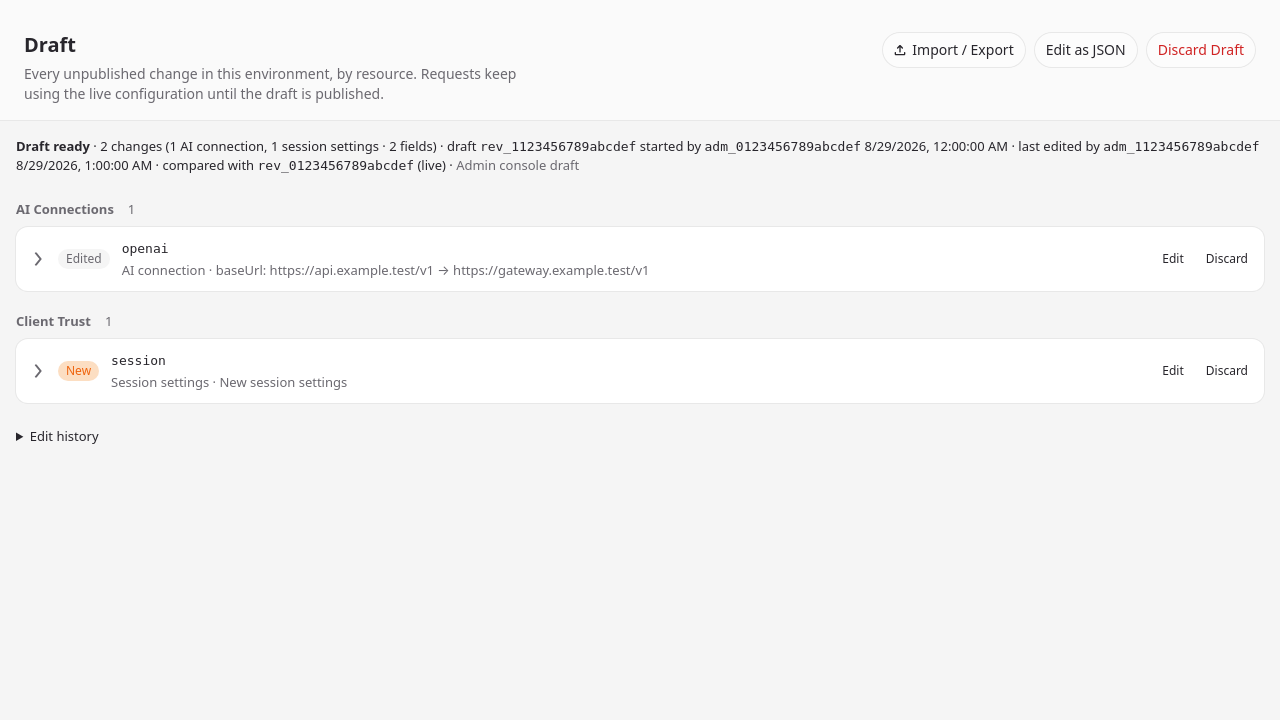
Test case: Changes with the draft lifecycle › shows who edited the draft and which paths, without values
This screenshot has width=1280, height=720.
Expected: the text "last edited by" is shown, [1008,137,1103,155]
Step 1. Click the heading "Edit history" → click(64, 436), box [30,427,99,445]
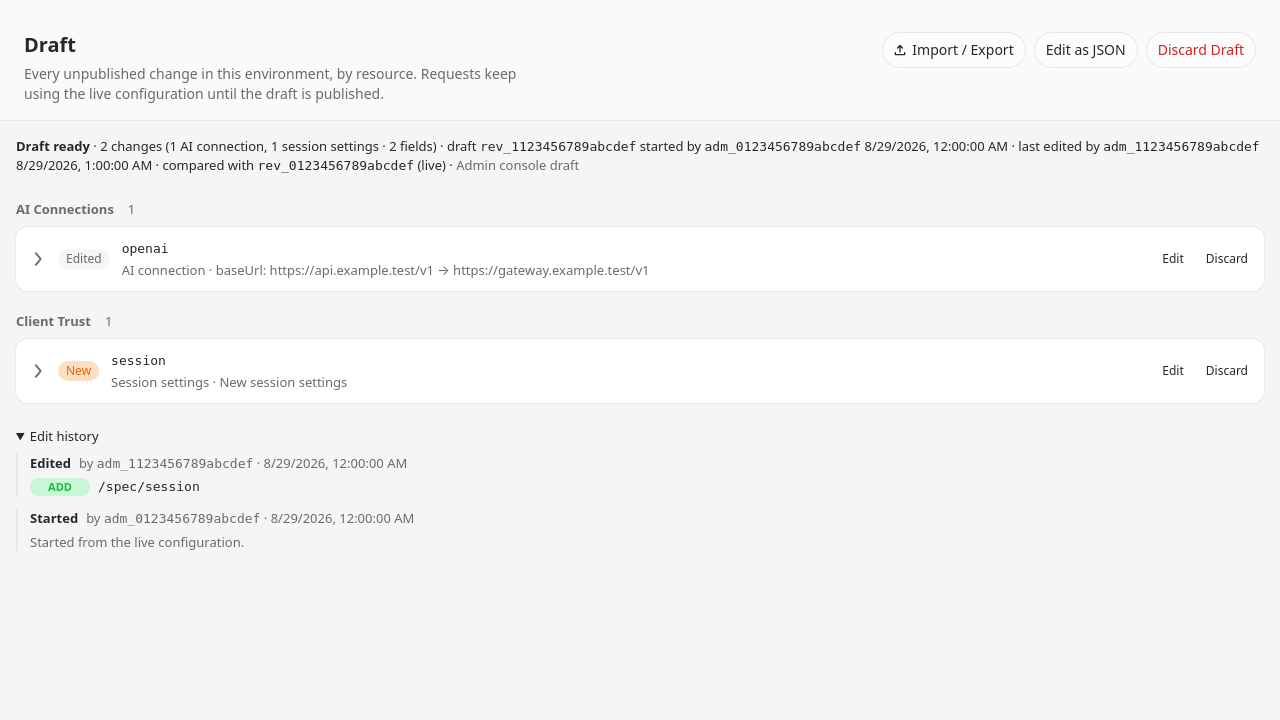
Expected: the list named "Edit history" shows "Edited", [30,454,71,472]
Expected: the list named "Edit history" shows "/spec/session", [98,479,200,494]
Expected: the list named "Edit history" shows "adm_1123456789abcdef", [97,456,253,471]
